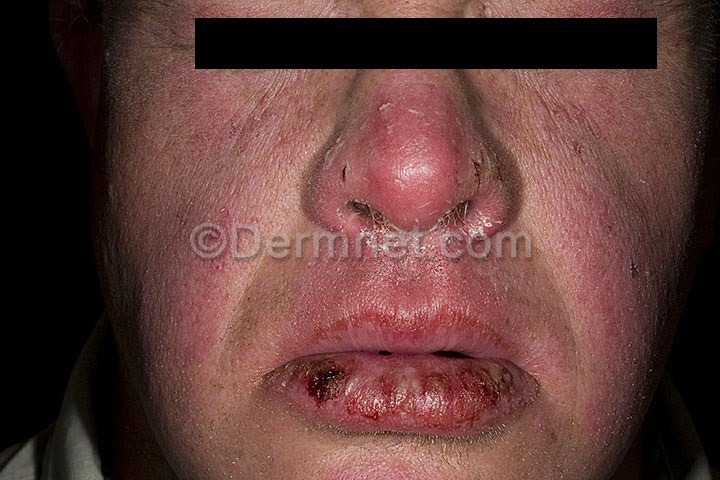Melasma: (172, 79, 656, 216), (263, 262, 564, 479), (570, 202, 639, 423), (143, 268, 247, 357)
